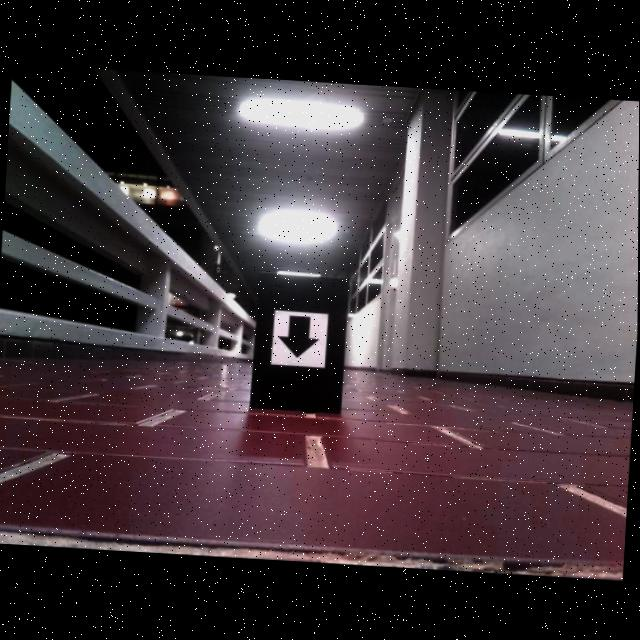DOWN: (278, 316, 321, 359)
